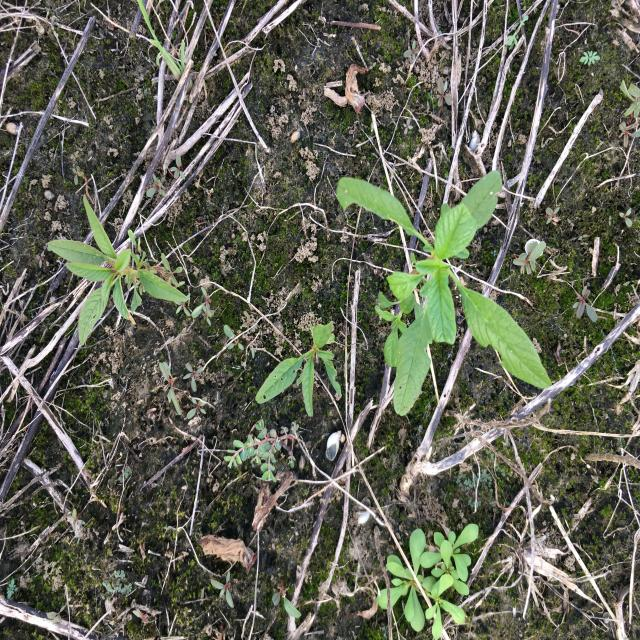Carpetweed: (376, 523, 480, 638)
SpottedSpurge: (224, 416, 306, 483)
Waterhemp: (334, 168, 554, 417), (46, 193, 190, 347), (254, 320, 343, 419)
